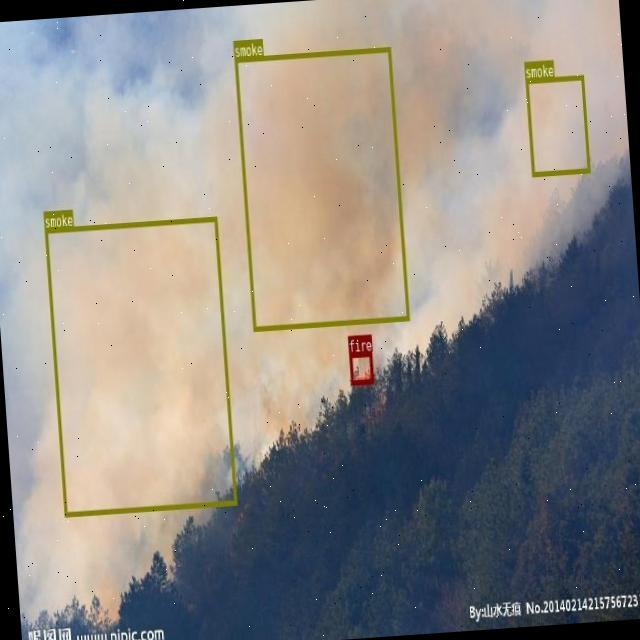fire: (348, 350, 374, 384)
smoke: (44, 215, 236, 515), (234, 46, 408, 330), (524, 74, 590, 176)
